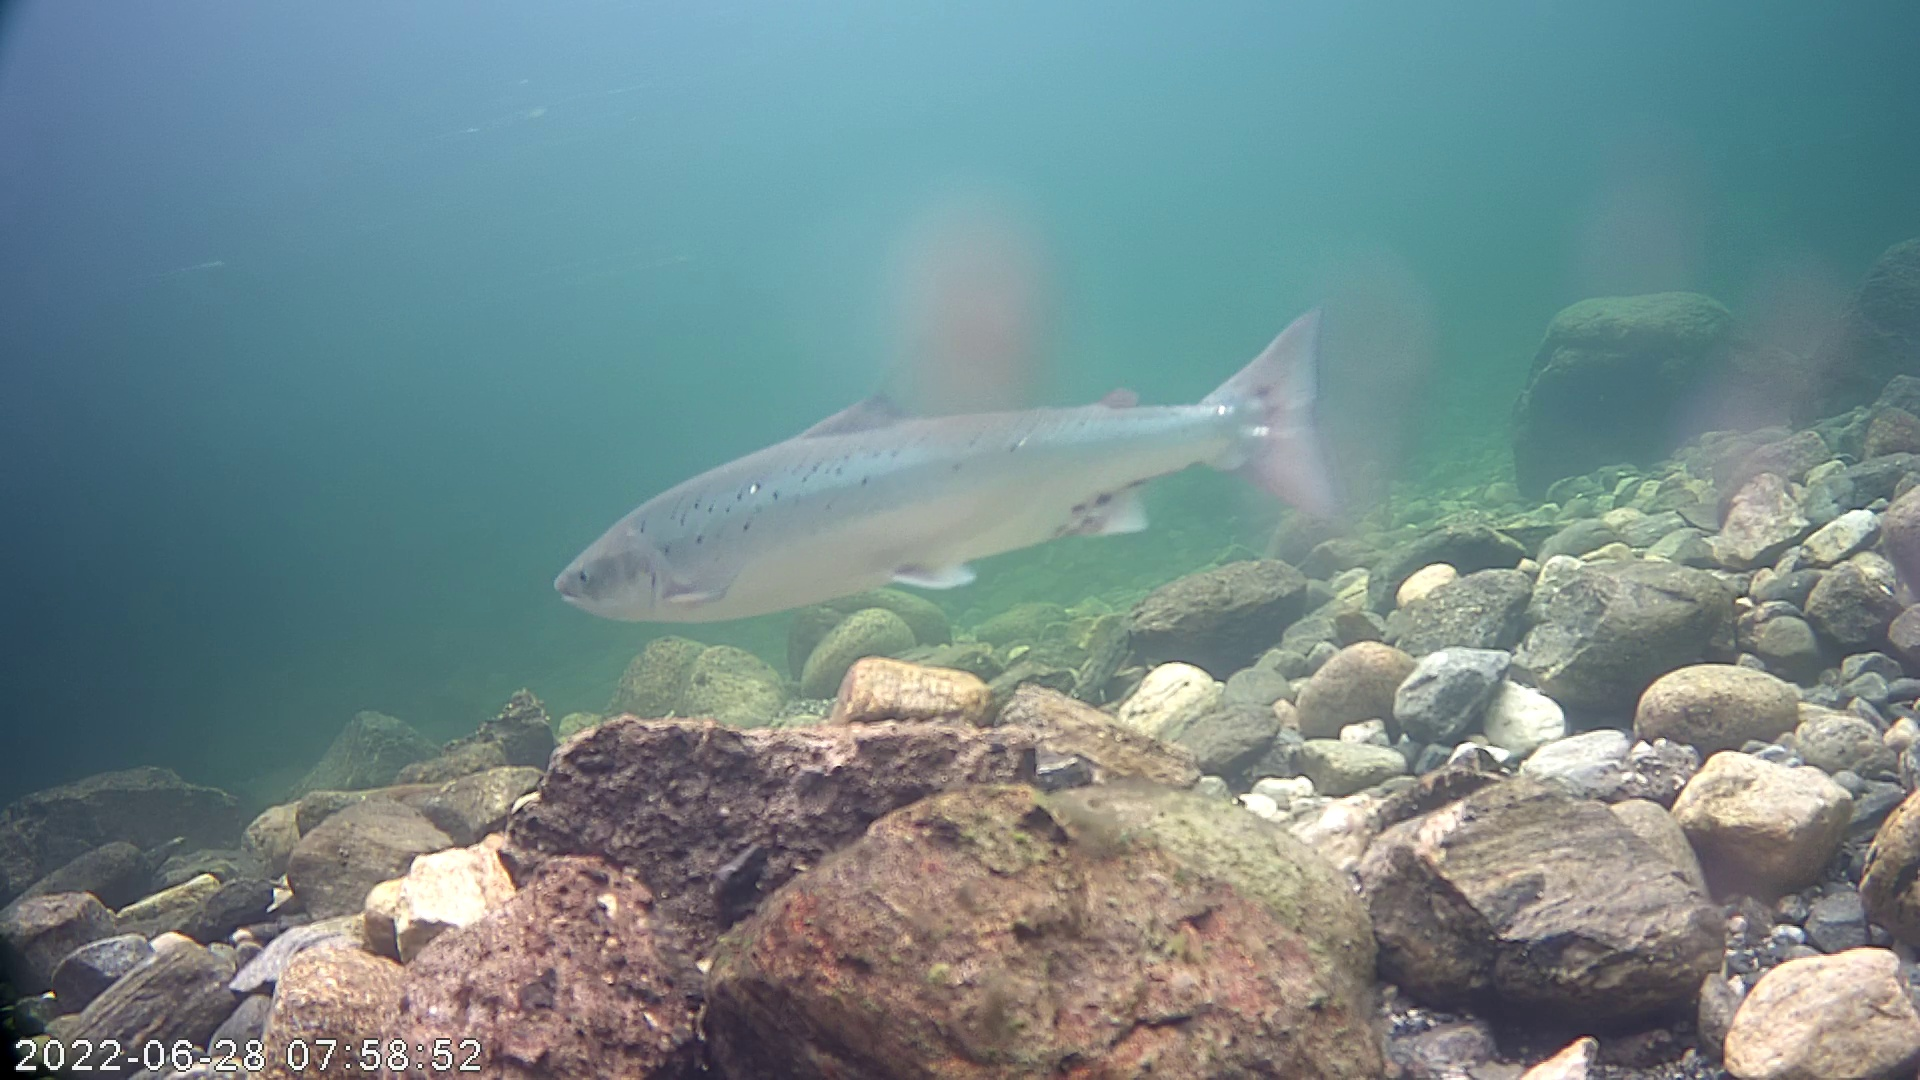salmon: (546, 218, 1383, 666)
